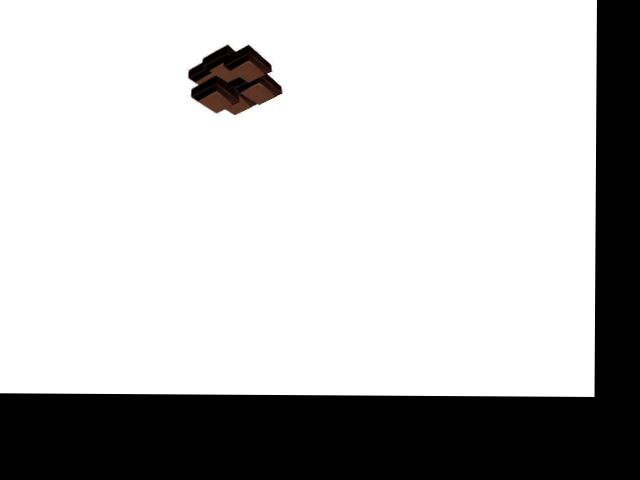chocolate: (185, 47, 281, 117)
